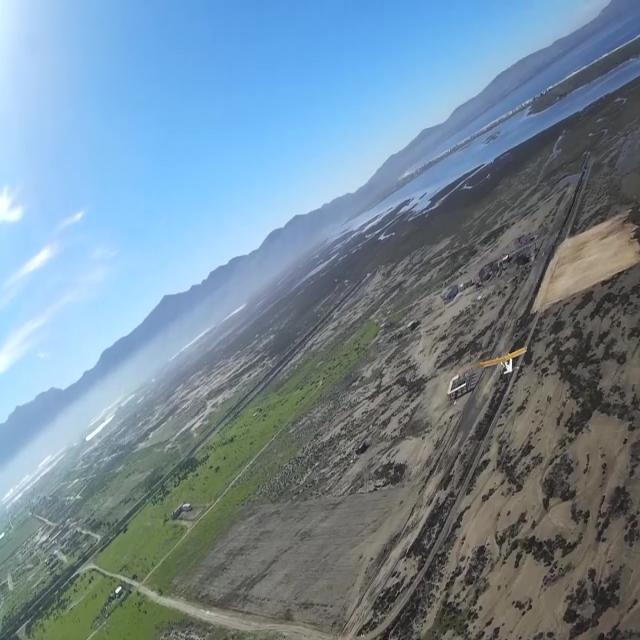iha: (478, 343, 528, 375)
